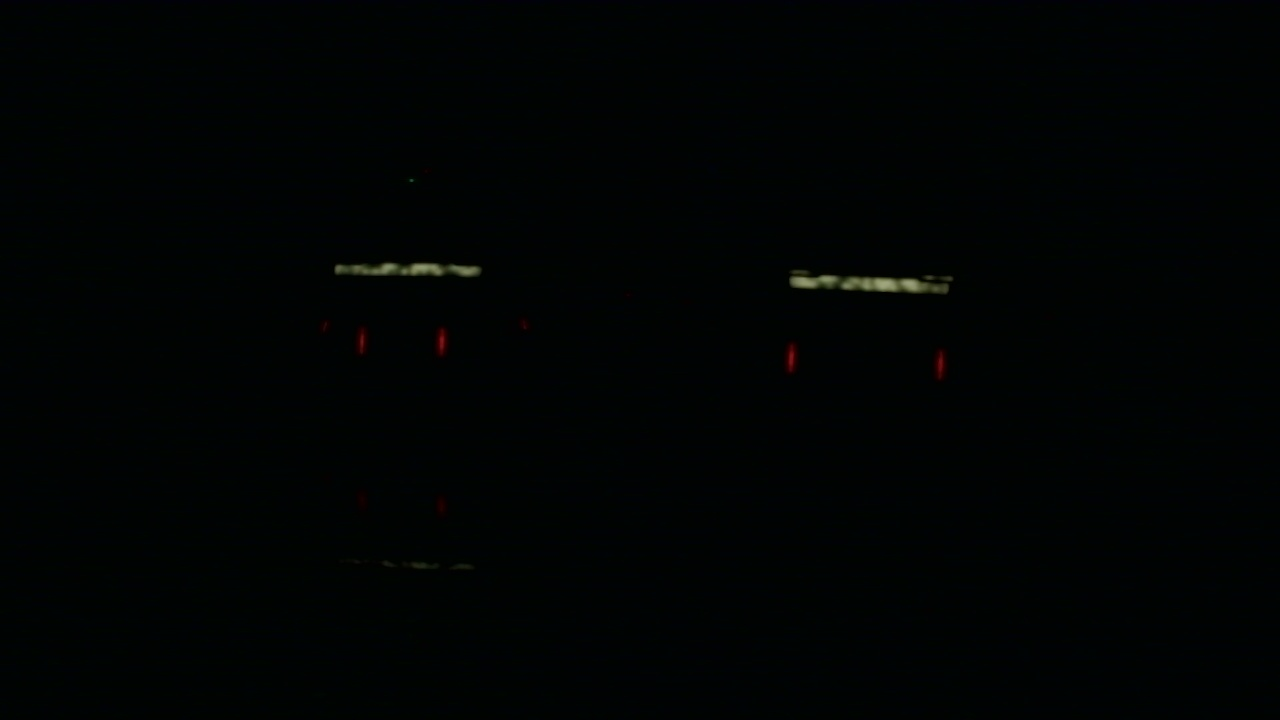lamp: (785, 344, 796, 383), (937, 344, 947, 382), (438, 325, 444, 352), (358, 326, 363, 350)
pair1: (359, 327, 445, 353)
pair2: (786, 345, 947, 384)
